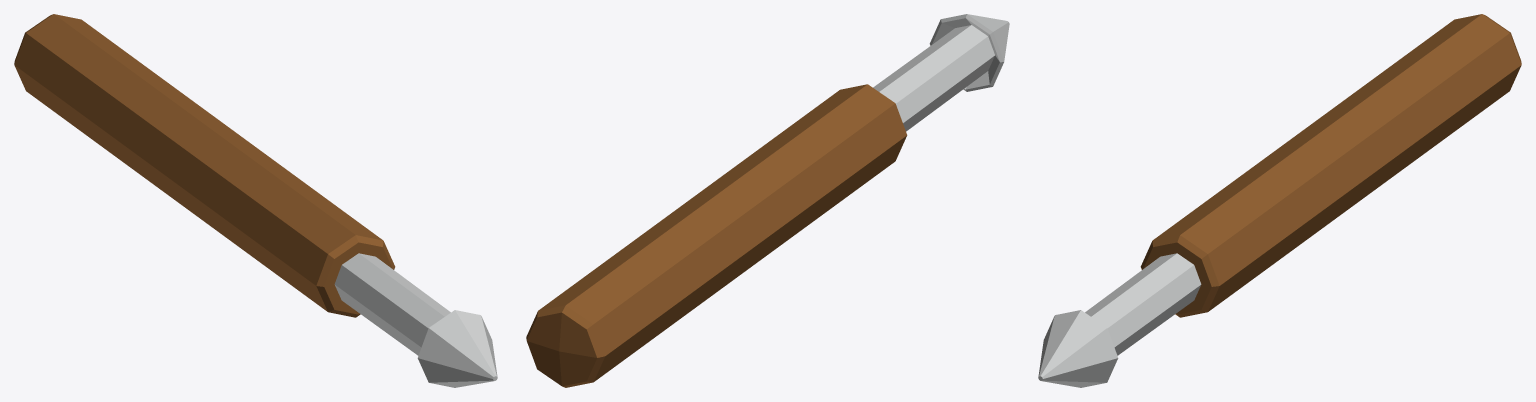
File: Roy_hook.fbx
3 renders of one model, left to right at view 1: azimuth 30°, elevation 25°; view 2: azimuth 150°, elevation 25°; view 3: azimuth 330°, elevation 25°, orthographic.
Visible parts, largest first — view 1: Cube; view 2: Cube; view 3: Cube.
Boxes of the visible parts, x1,y1,x2,y2 form: Cube: [14, 14, 497, 387]; Cube: [526, 14, 1009, 387]; Cube: [1038, 14, 1521, 387].
Size of the model in its own units: 285 by 285 by 2796.
